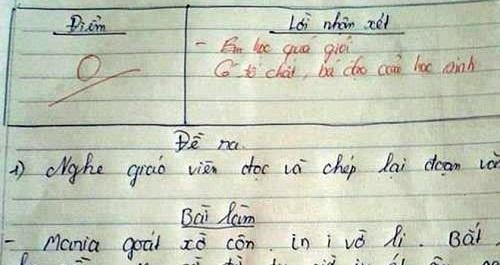text: (41, 220, 483, 263), (44, 149, 500, 190), (213, 52, 477, 82), (217, 34, 354, 66), (288, 10, 390, 37), (180, 200, 257, 230), (172, 128, 240, 155), (65, 13, 107, 36), (75, 52, 103, 85), (7, 159, 27, 183)
